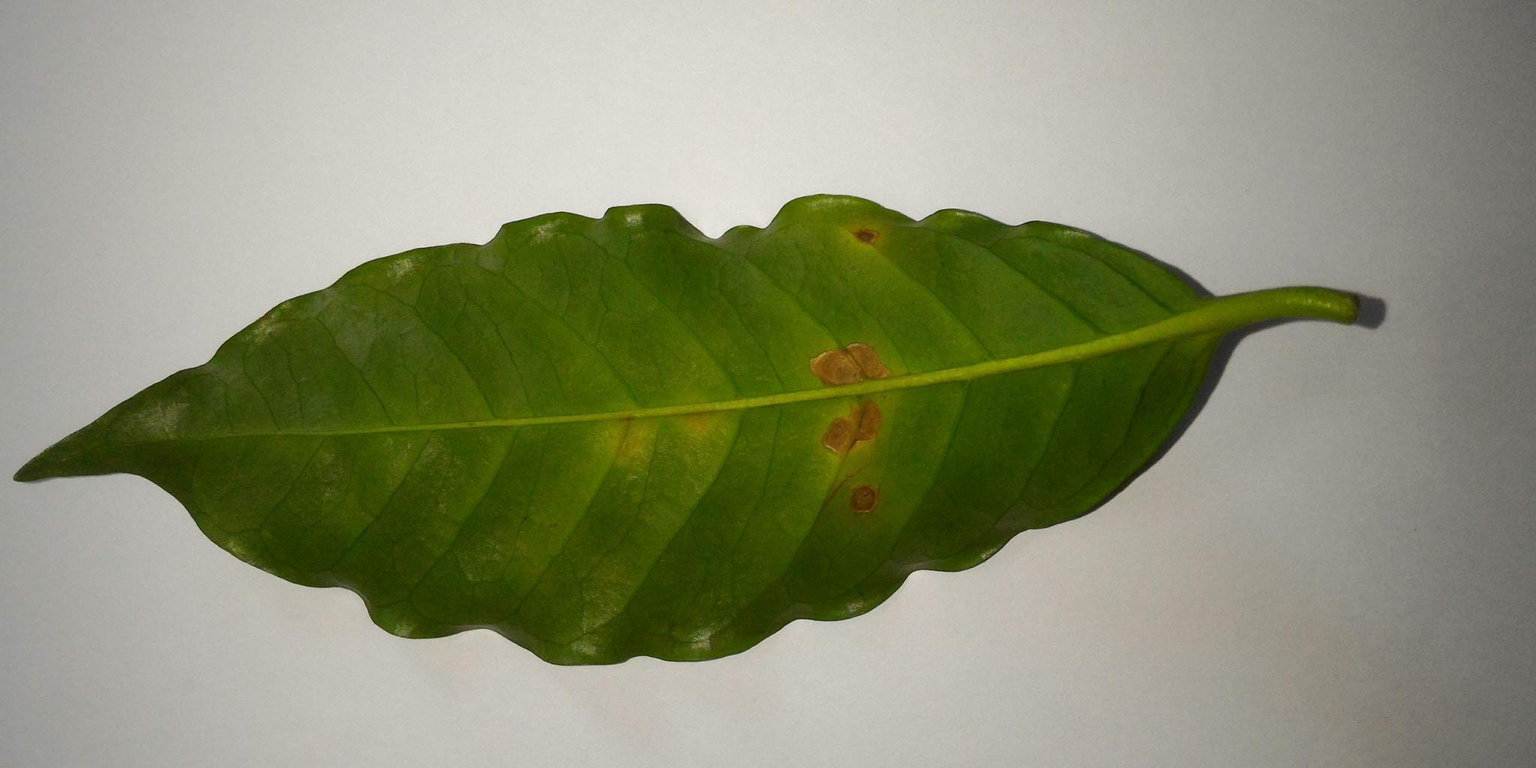Miner: (804, 392, 901, 461), (802, 336, 896, 395), (829, 465, 898, 529)
